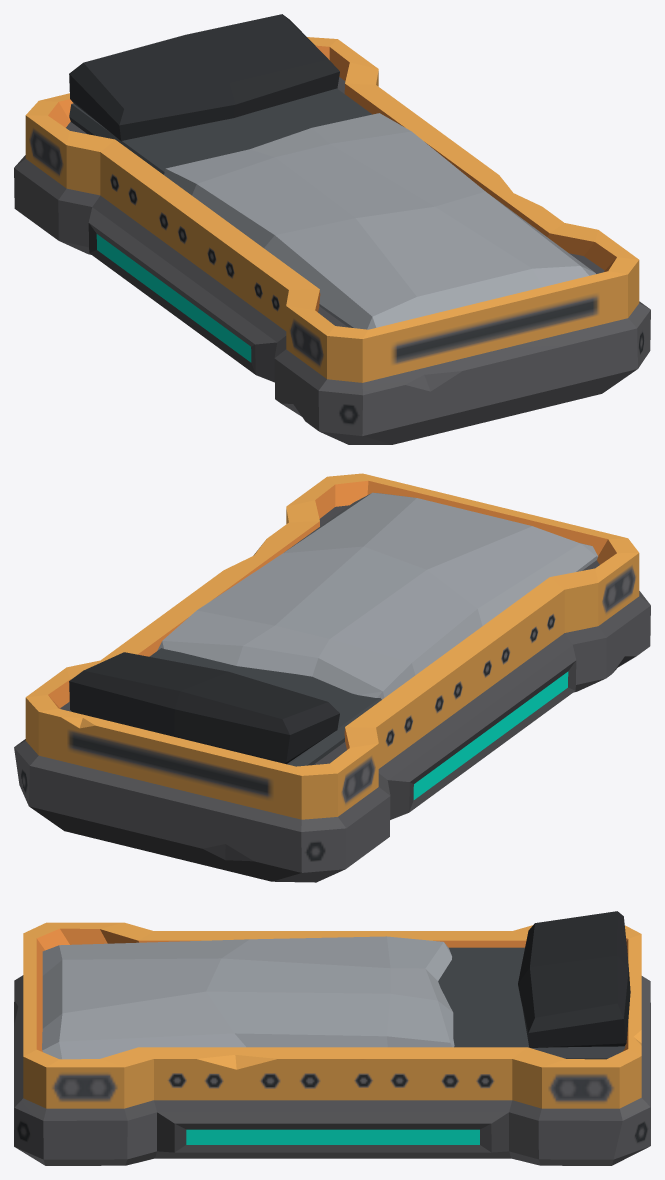
The model's file is SM_Prop_Single_Bed_01.fbx.
3 views of the same model, one above another, from view 1: azimuth 30°, elevation 25°; view 2: azimuth 150°, elevation 25°; view 3: azimuth 270°, elevation 25° (orthographic). The views are drawn at different scales.
Visible parts, largest first — view 1: SM_Prop_Single_Bed_01; view 2: SM_Prop_Single_Bed_01; view 3: SM_Prop_Single_Bed_01.
Part boxes in pixels (x1,y1,x2,y2): SM_Prop_Single_Bed_01: (14, 14, 650, 444); SM_Prop_Single_Bed_01: (14, 473, 650, 882); SM_Prop_Single_Bed_01: (14, 911, 650, 1165).
Size of the model in its own units: 143 by 64.29 by 250.
